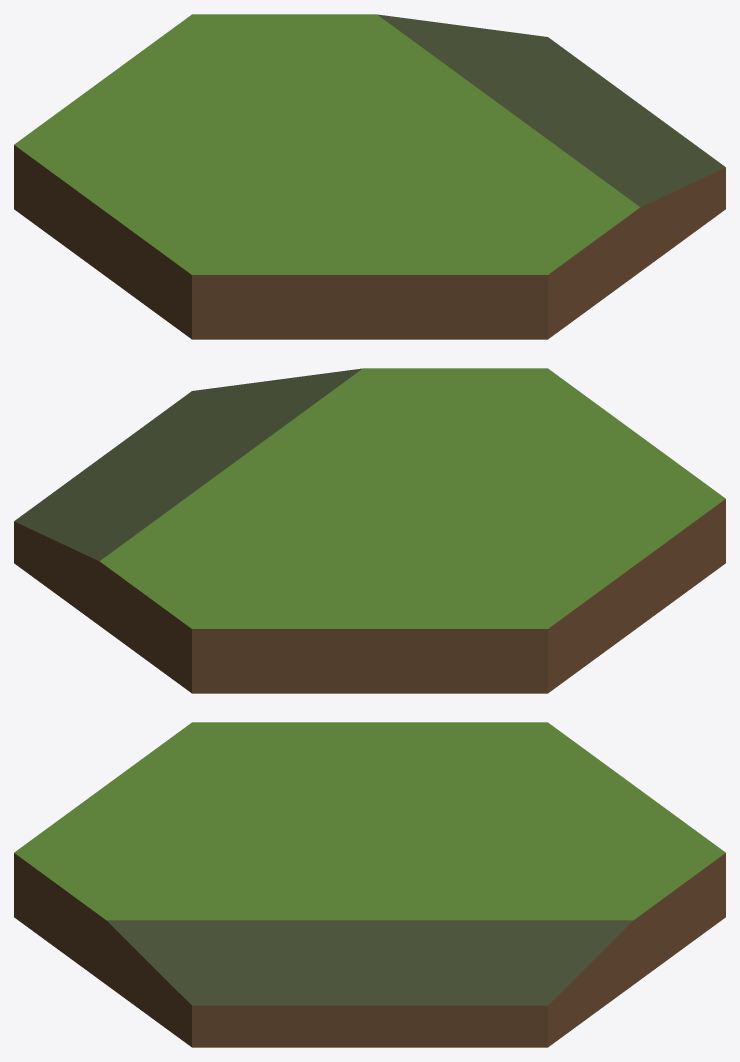
File: tile_swamp_edge.glb
3 views of the same model, one above another, from view 1: azimuth 30°, elevation 25°; view 2: azimuth 150°, elevation 25°; view 3: azimuth 270°, elevation 25° (orthographic).
Parts seen in each view (by area): view 1: tile_swamp_edge; view 2: tile_swamp_edge; view 3: tile_swamp_edge.
Part boxes in pixels (<box>): tile_swamp_edge: <box>14,14,725,339</box>; tile_swamp_edge: <box>14,368,725,693</box>; tile_swamp_edge: <box>14,722,725,1047</box>.
Size of the model in its own units: 1.73 by 0.2 by 2.
1 material, 1 textured.
